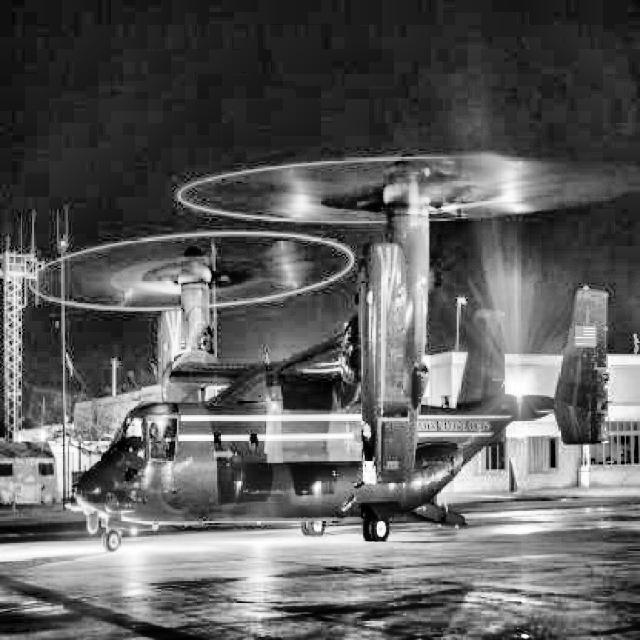V22: (29, 153, 614, 552)
